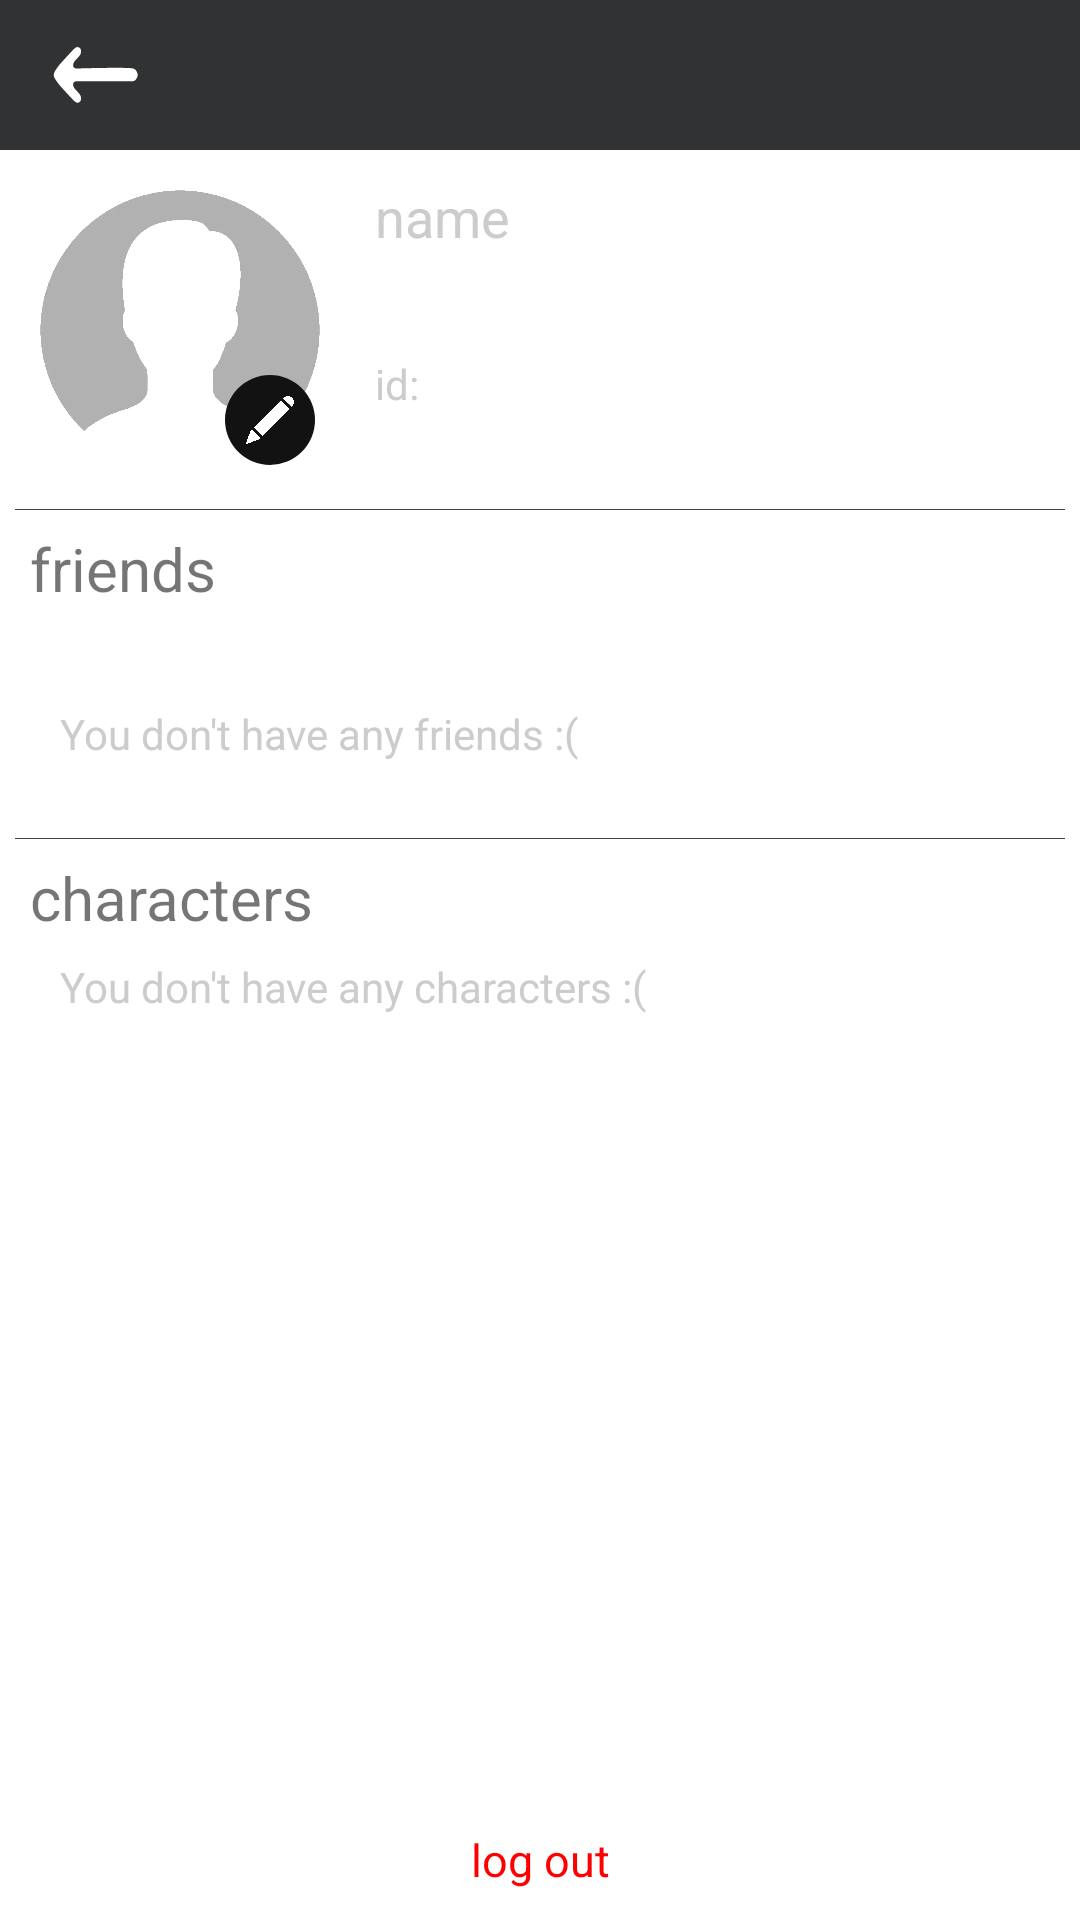

Locate icon controls on the screen. Image size 1080 x 1920, boxes as bbox=[x1, y1, x2, y2].
back arrow: bbox=[53, 47, 138, 103]
edit: bbox=[225, 375, 315, 465]
